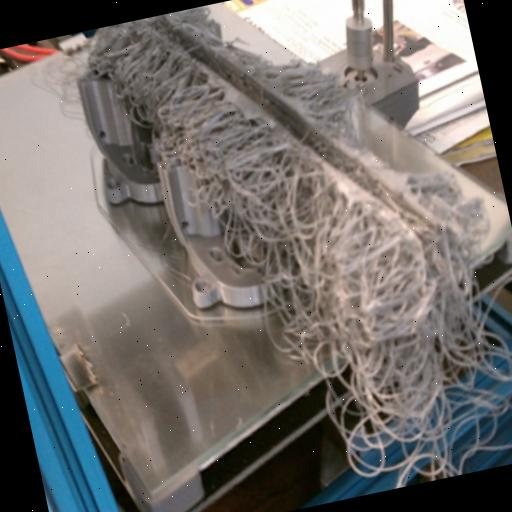spaghetti: (83, 0, 512, 512)
